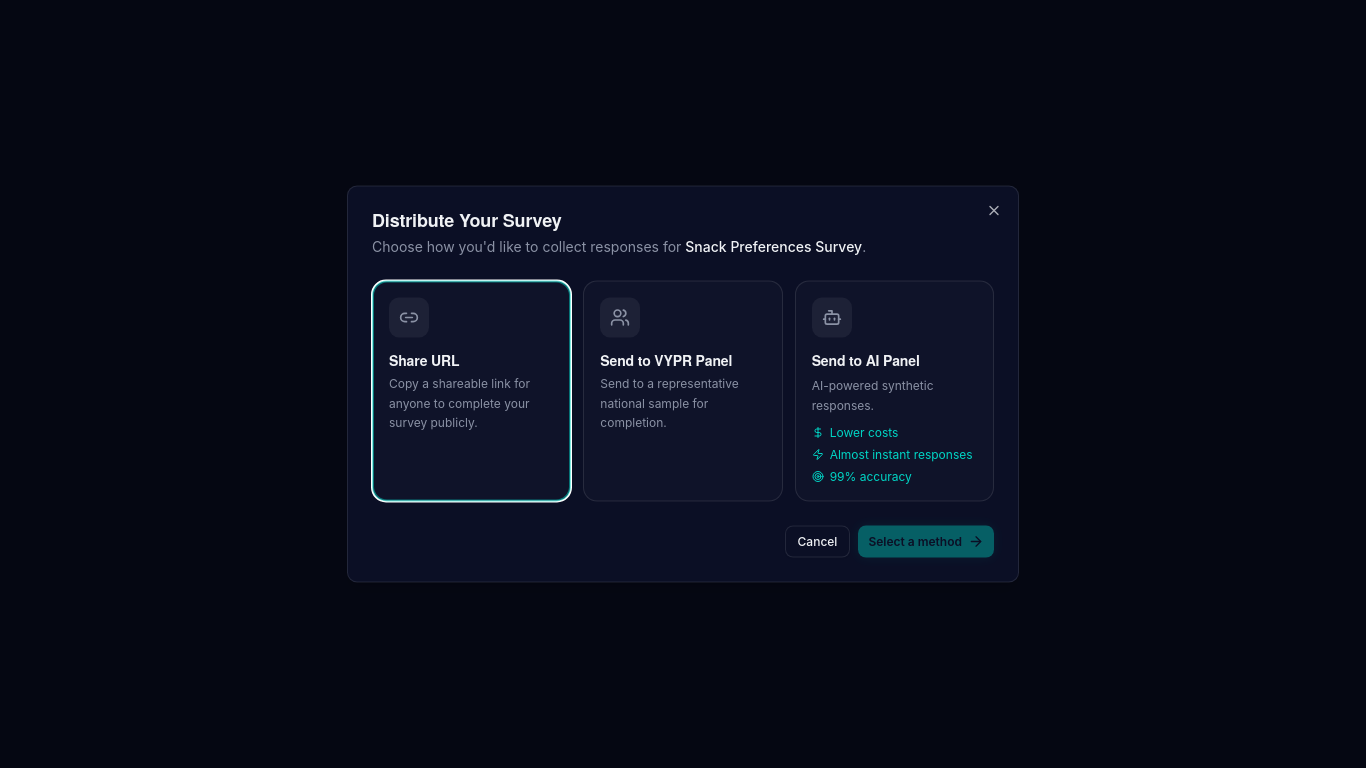
Test case: PanelDistributionDialog › option selection › shows 'Publish & Copy URL' when Share URL is selected
This screenshot has width=1366, height=768.
Click the heading "Share URL" at (424, 360), box [389,350,459,370]
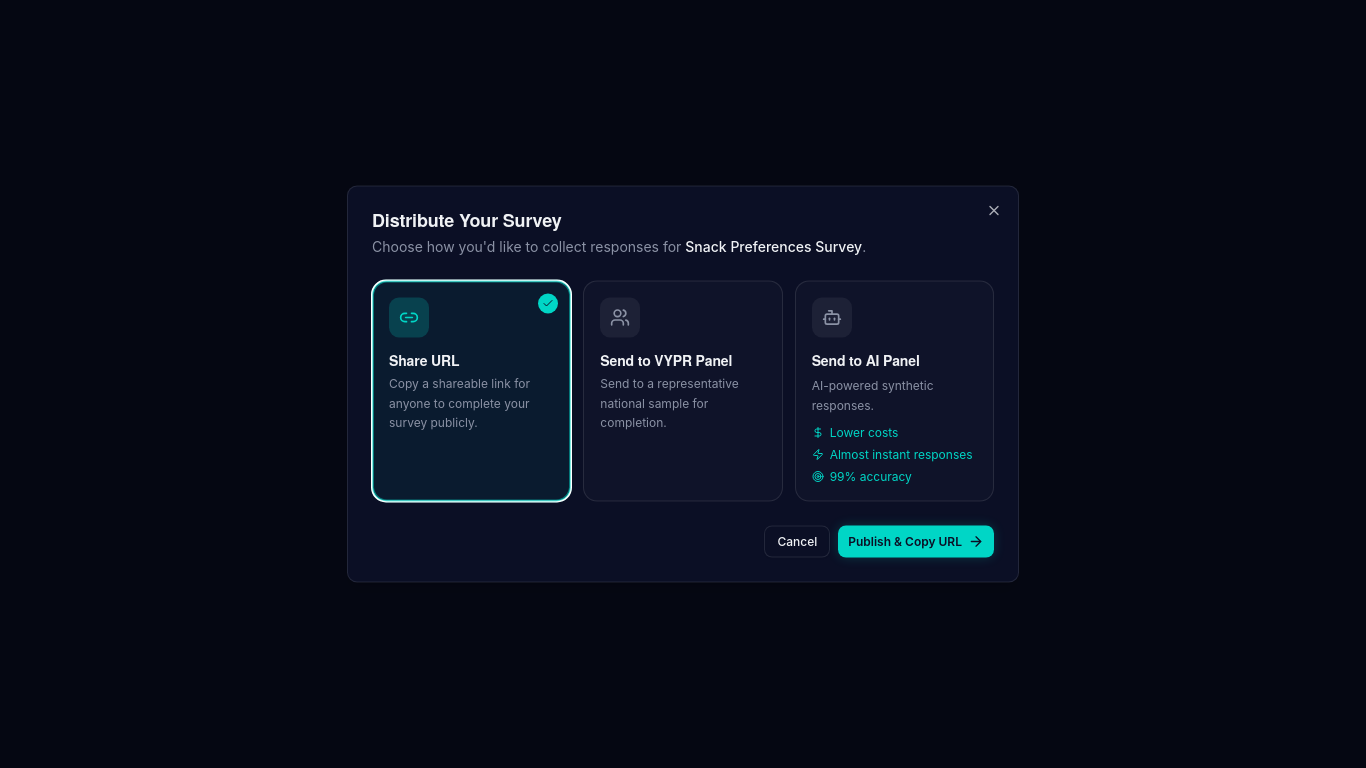
Expected: the button "Publish & Copy URL" is shown, [838,526,994,558]
